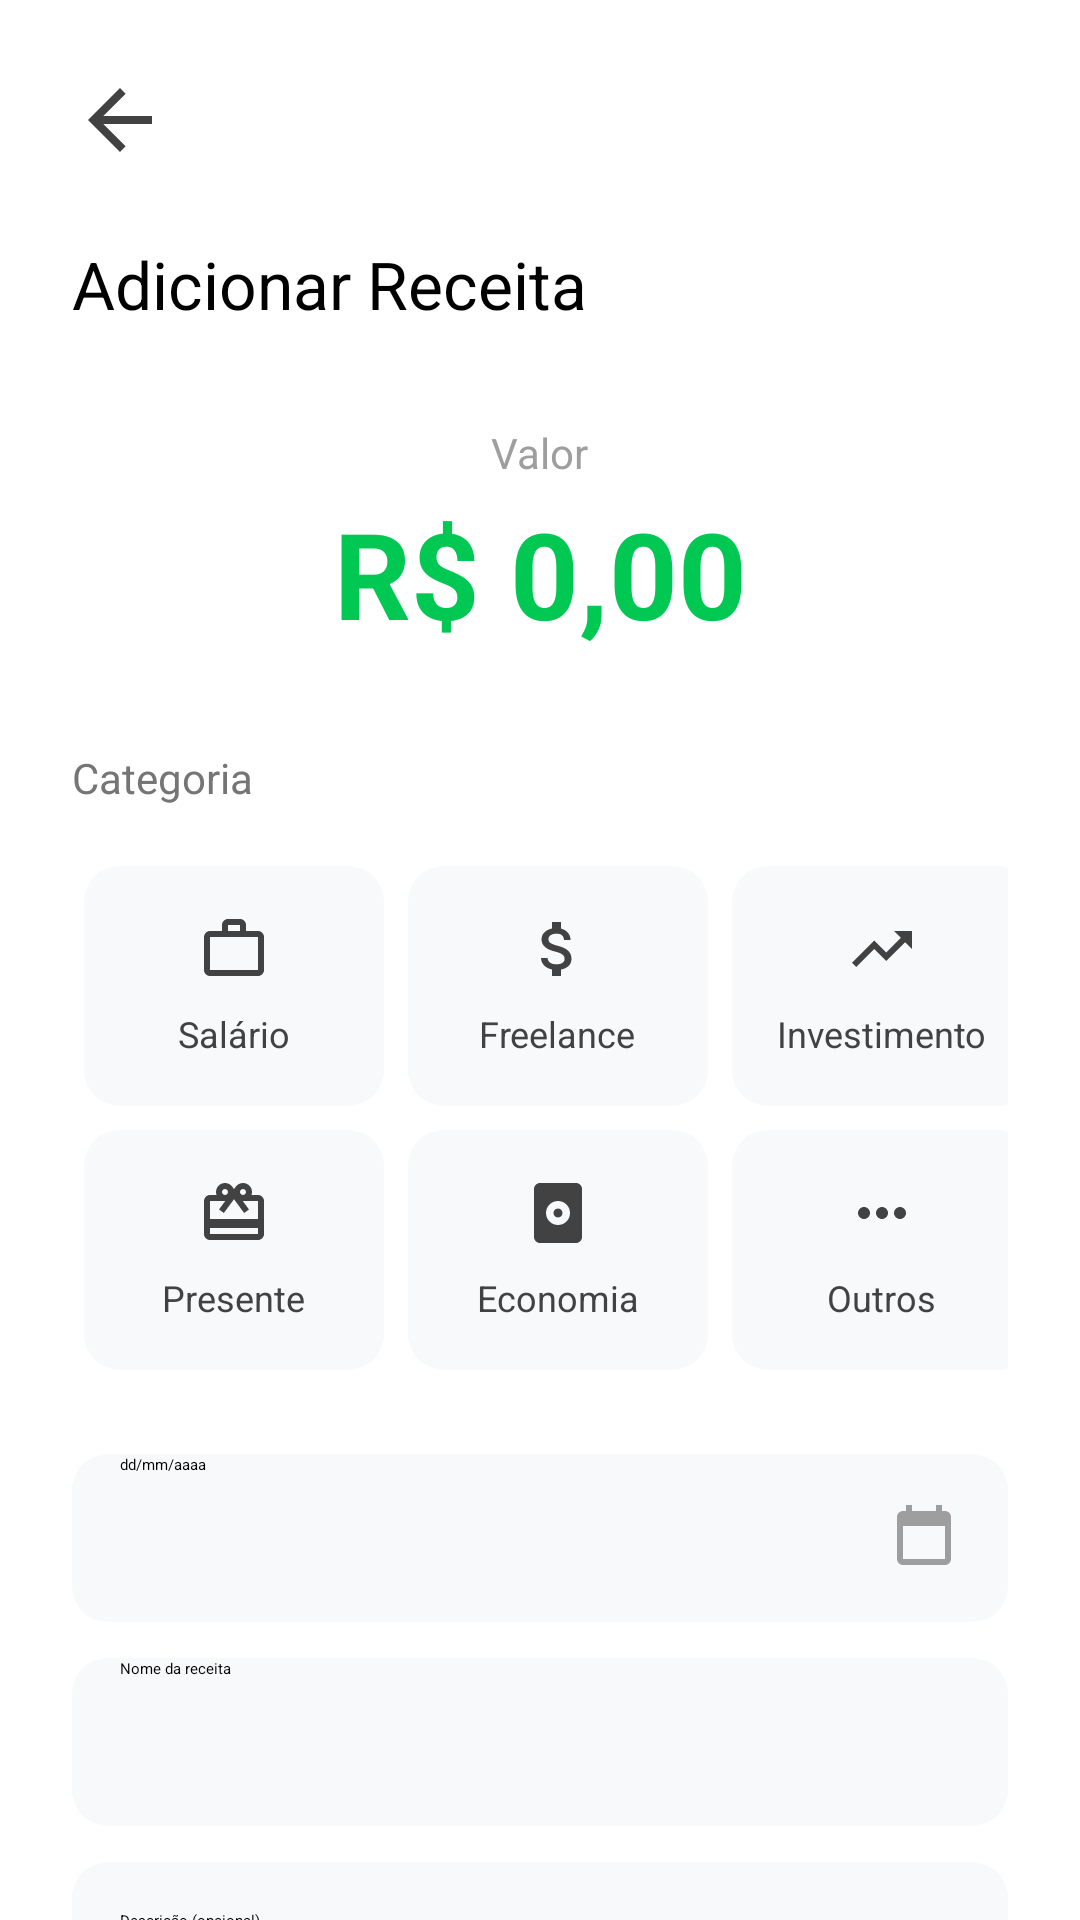

Icon click points for this 1080 × 1920 phone screenshot, format (x=x, y=y):
arrow back: (x=120, y=120)
attach money: (x=556, y=949)
card giftcard: (x=234, y=1211)
more horiz: (x=882, y=1213)
trending up: (x=882, y=949)
work: (x=234, y=947)
